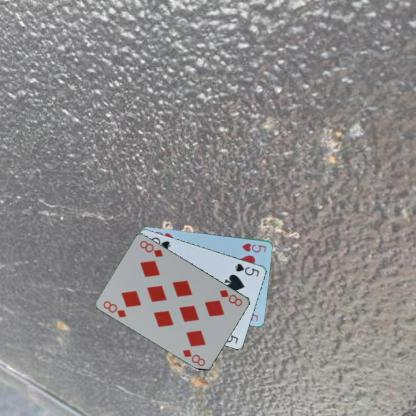5h: (240, 240, 267, 254)
5s: (233, 260, 260, 278)
8d: (217, 286, 244, 308), (101, 298, 128, 319)
